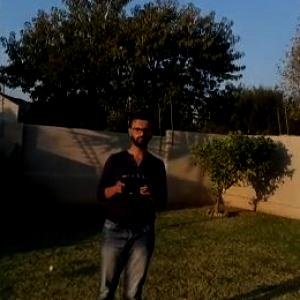follow: (94, 98, 178, 299)
